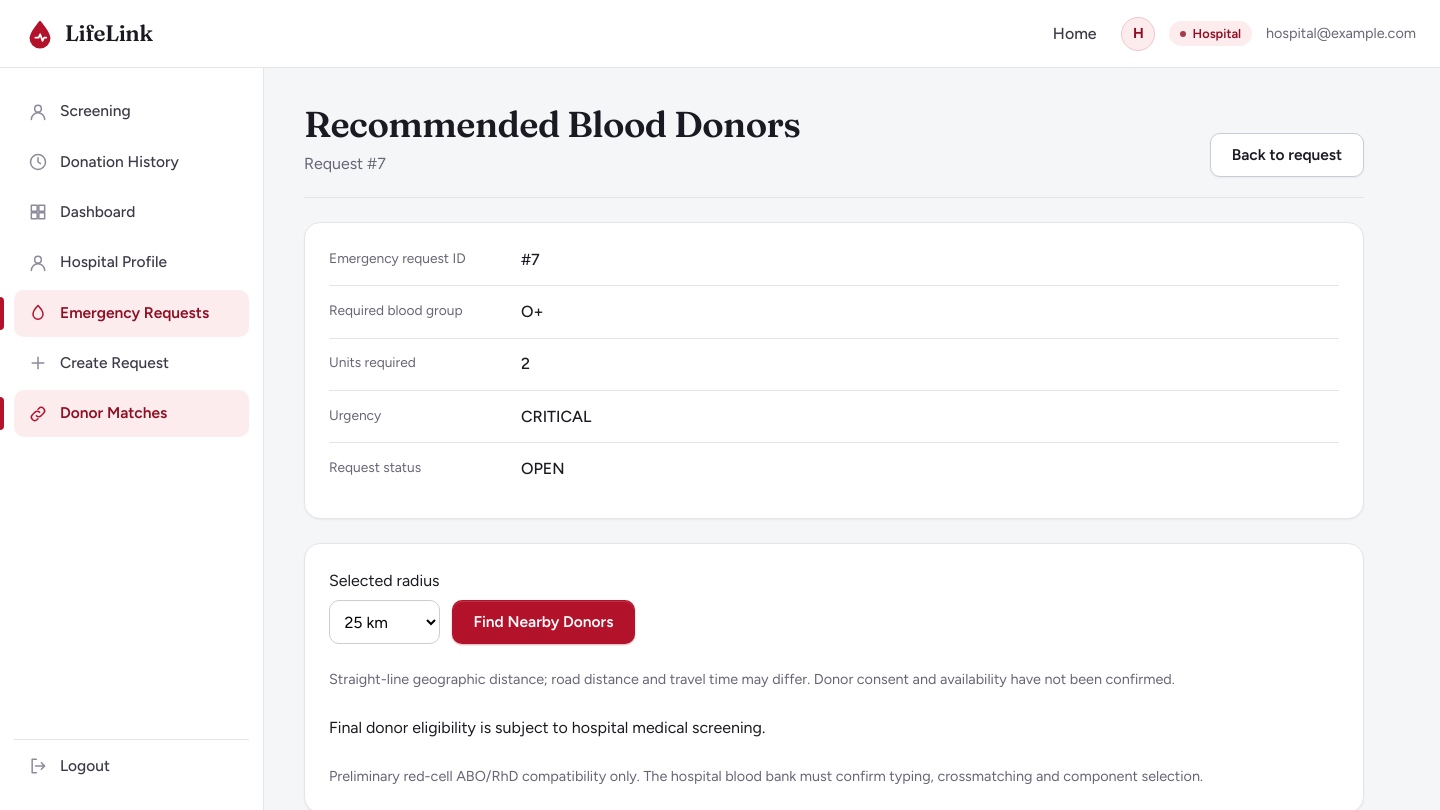
hospital donor matching › shows helpful empty results
The image size is (1440, 810).
Click the button "Find Nearby Donors" at (543, 622), box [452,600,635,644]
(page scrolled)
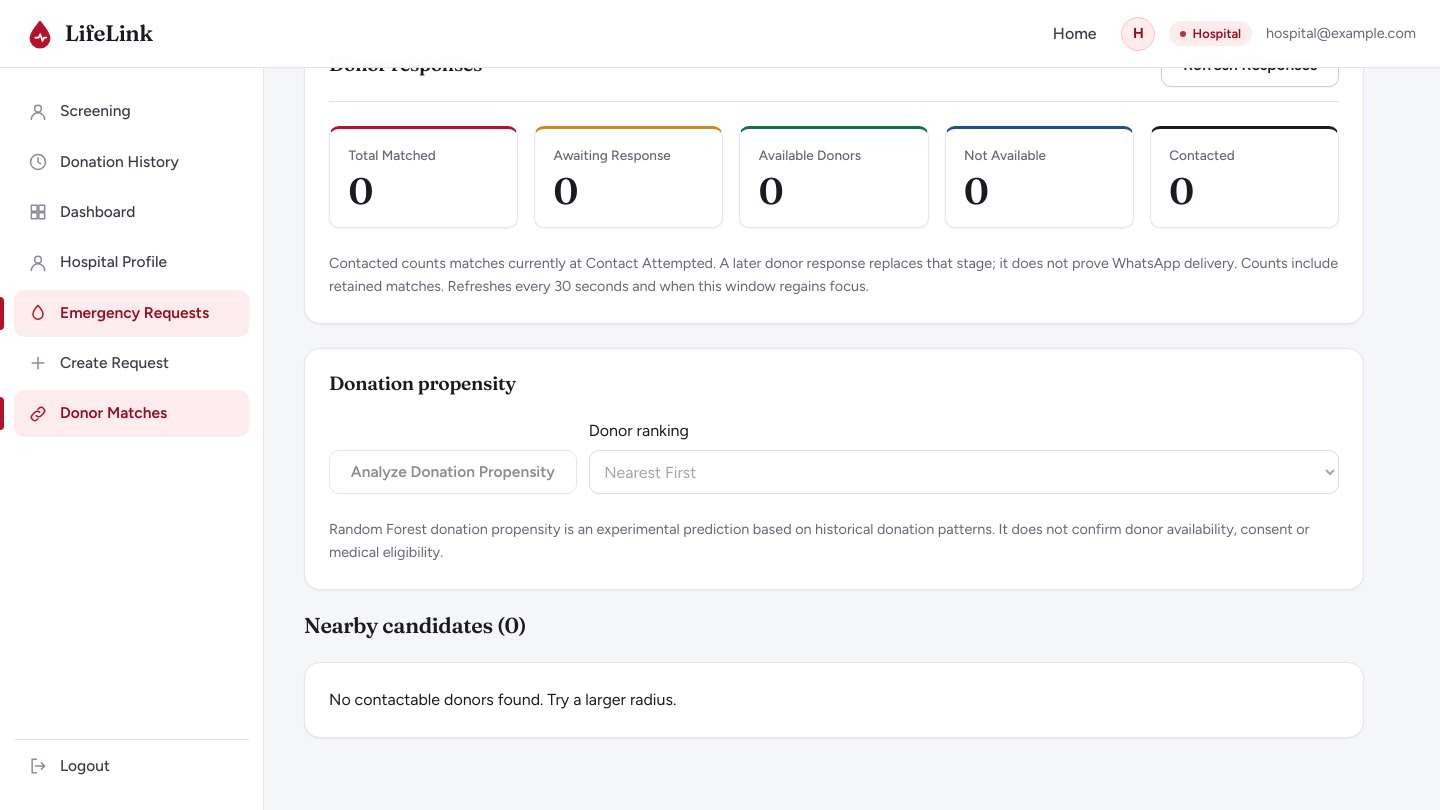
Expected: the text "No contactable donors found. Try a larger radius." is shown, [304,662,1364,738]
